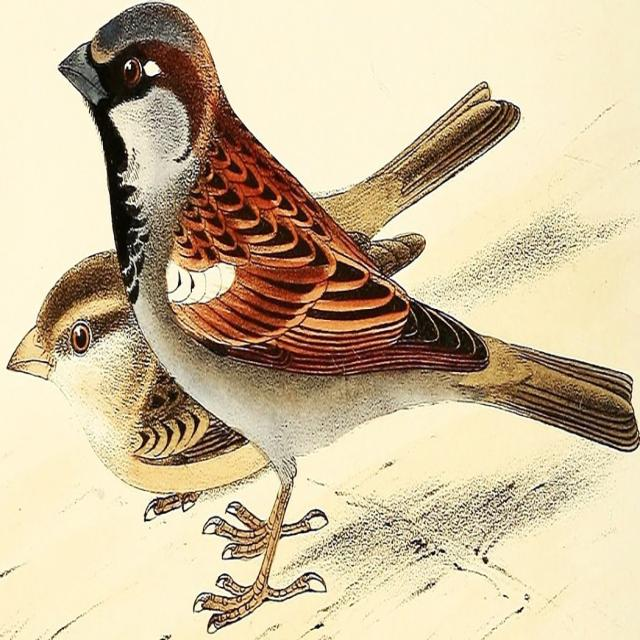Sparrow: (50, 0, 634, 594)
